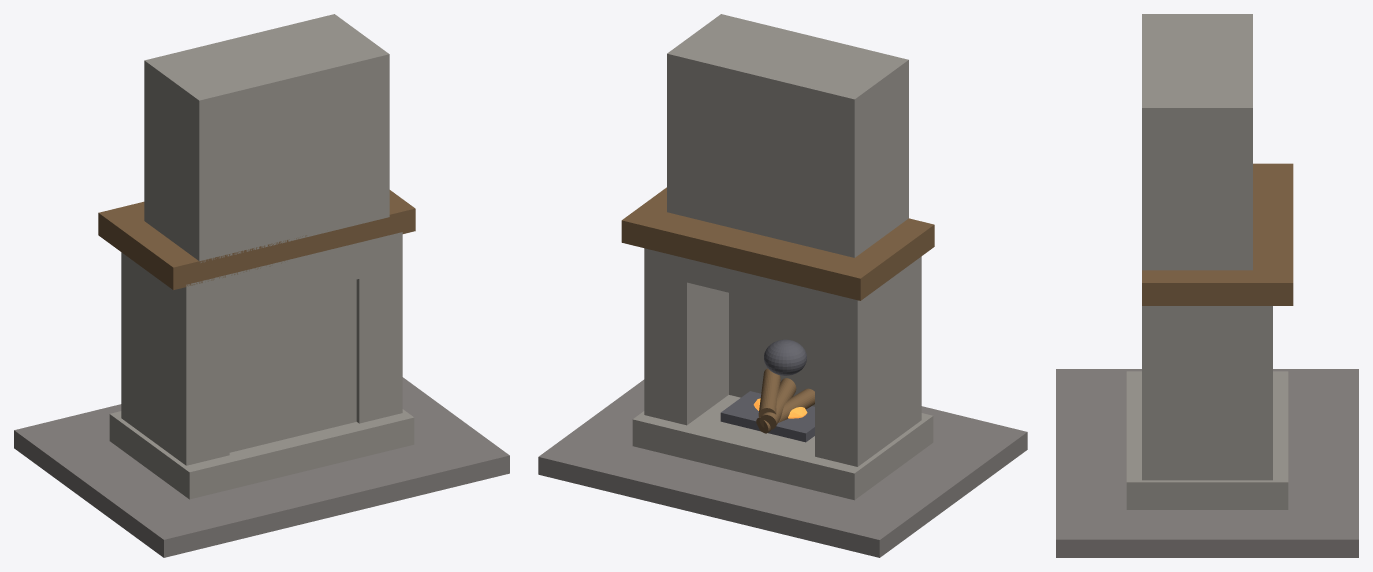
The model's file is fireplace.glb.
3 renders of one model, left to right at view 1: azimuth 30°, elevation 25°; view 2: azimuth 150°, elevation 25°; view 3: azimuth 270°, elevation 25°, orthographic. The views are drawn at different scales.
Parts seen in each view (by area): view 1: Cube.007, Cube, Cube.004, Cube.002, Cube.001, Cube.006, Cube.005, Cube.003; view 2: Cube.007, Cube, Cube.002, Cube.006, Cube.001, Cube.003, Cube.004, Cube.005, Cube.008, Sphere, Cylinder.002, Cylinder.001 (+1 smaller); view 3: Cube, Cube.007, Cube.003, Cube.006, Cube.001, Cube.005.
Boxes of the visible parts, box(x1,y1,x2,y2) form: Cube.007: box(144, 14, 389, 262); Cube: box(14, 377, 509, 557); Cube.004: box(229, 279, 356, 452); Cube.002: box(121, 255, 229, 465); Cube.001: box(109, 409, 414, 499); Cube.006: box(98, 190, 415, 289); Cube.005: box(121, 232, 402, 313); Cube.003: box(356, 268, 402, 423); Cube.007: box(667, 14, 908, 257); Cube: box(538, 379, 1027, 557); Cube.002: box(815, 259, 921, 466); Cube.006: box(621, 187, 934, 300); Cube.001: box(632, 395, 933, 500); Cube.003: box(644, 254, 728, 425); Cube.004: box(729, 293, 814, 406); Cube.005: box(644, 248, 921, 323); Cube.008: box(720, 391, 814, 442); Sphere: box(764, 339, 806, 375); Cylinder.002: box(758, 368, 780, 417); Cylinder.001: box(759, 378, 796, 429); Cube: box(1056, 369, 1358, 557); Cube.007: box(1142, 14, 1252, 270); Cube.003: box(1142, 315, 1272, 480); Cube.006: box(1142, 163, 1293, 305); Cube.001: box(1126, 371, 1288, 509); Cube.005: box(1142, 306, 1272, 333).
Size of the model in its own units: 4 by 4.5 by 3.
